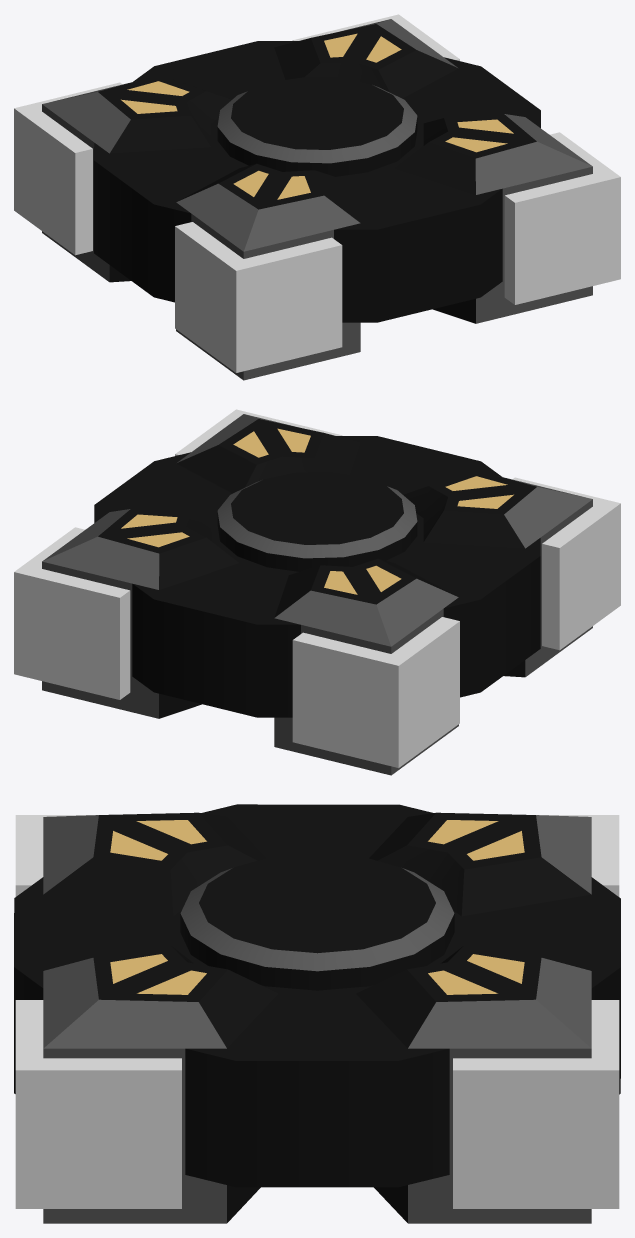
Rendered from 01_turret_repair.glb.
The picture shows the model from 3 angles, top to bottom: view 1: azimuth 30°, elevation 25°; view 2: azimuth 150°, elevation 25°; view 3: azimuth 270°, elevation 25°; orthographic projection. The views are drawn at different scales.
Parts seen in each view (by area): view 1: 01_turret_repair; view 2: 01_turret_repair; view 3: 01_turret_repair.
Boxes of the visible parts, x1=… form: 01_turret_repair: x1=14, y1=14, x2=620, y2=380; 01_turret_repair: x1=14, y1=409, x2=620, y2=775; 01_turret_repair: x1=14, y1=804, x2=620, y2=1223.
Bounding box in the file's own units: 0.8326 × 0.3097 × 0.8326.
